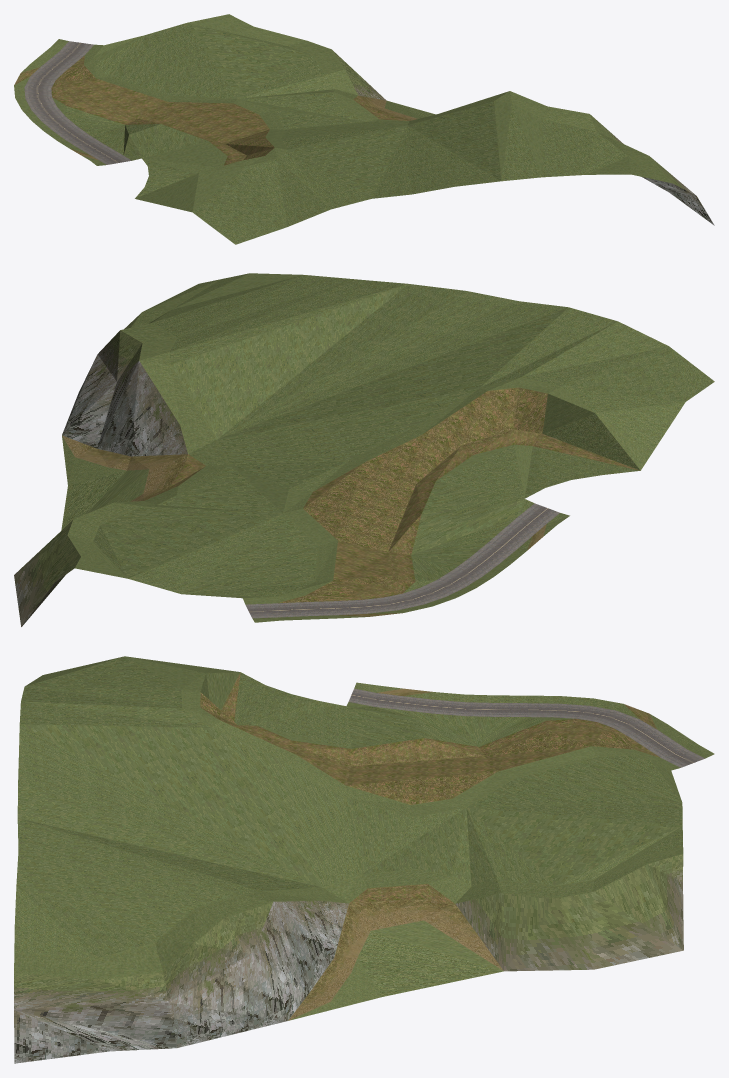
File: s_lodbit_09.obj
3 renders of one model, top to bottom at view 1: azimuth 30°, elevation 25°; view 2: azimuth 150°, elevation 25°; view 3: azimuth 270°, elevation 25°, orthographic. The views are drawn at different scales.
Parts seen in each view (by area): view 1: s_lodbit_09; view 2: s_lodbit_09; view 3: s_lodbit_09.
Boxes of the visible parts, x1,y1,x2,y2 form: s_lodbit_09: [14, 14, 714, 244]; s_lodbit_09: [14, 273, 714, 626]; s_lodbit_09: [14, 656, 714, 1063].
Bounding box in the file's own units: 253 × 53.87 × 255.
9 materials, 9 textured.
